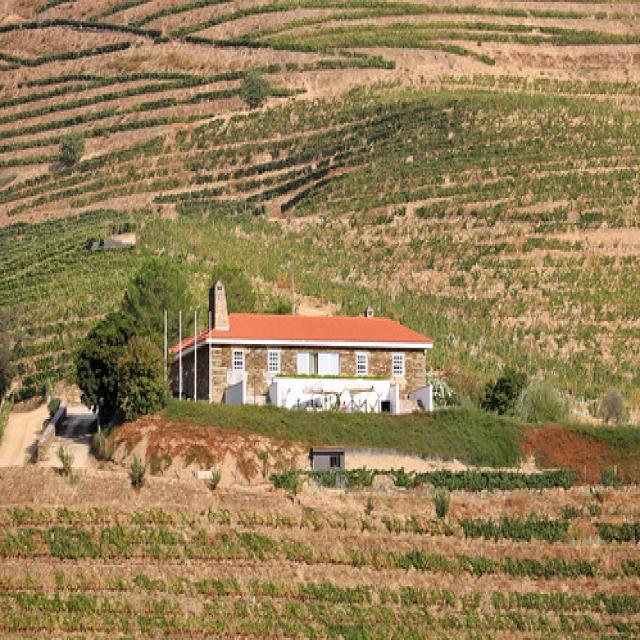Normal_building: (168, 280, 432, 422)
